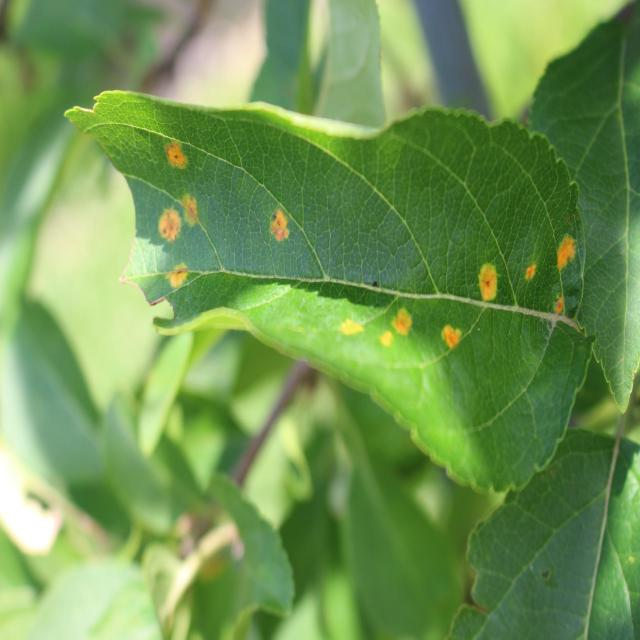Rust: (550, 223, 597, 283), (258, 194, 300, 254), (472, 256, 504, 316), (388, 304, 429, 350), (158, 258, 202, 300), (331, 299, 364, 355), (513, 248, 544, 300), (435, 314, 467, 363), (160, 131, 194, 174), (160, 199, 183, 260), (180, 181, 203, 230), (552, 294, 578, 327), (376, 331, 404, 357)
